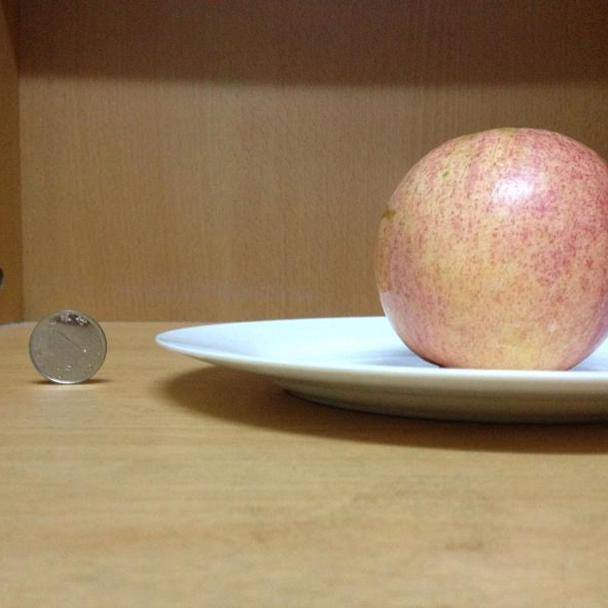apple: (377, 127, 608, 370)
